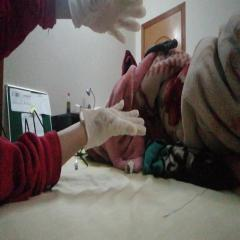gloved: (80, 97, 146, 151), (70, 0, 146, 45)
